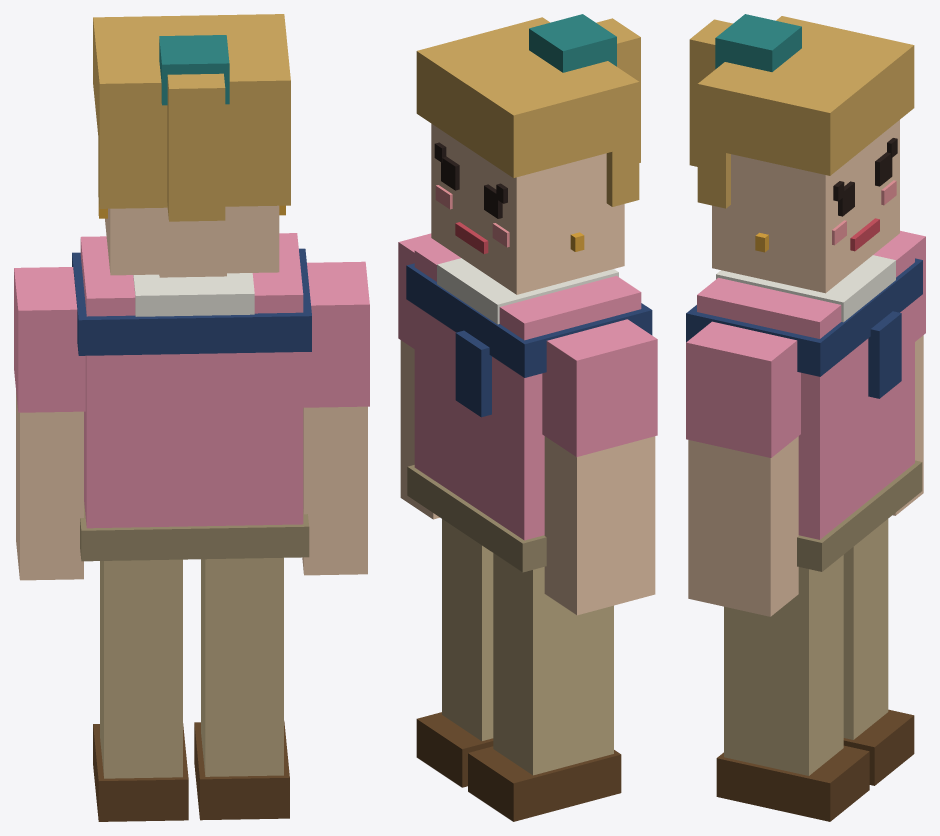
Rendered from teen_prep_1.glb.
The picture shows the model from 3 angles, left to right: view 1: azimuth 30°, elevation 25°; view 2: azimuth 150°, elevation 25°; view 3: azimuth 270°, elevation 25°; orthographic projection. The views are drawn at different scales.
Parts seen in each view (by area): view 1: Box11, Box27, Box1, Box6, Box17, Box13, Box3, Box28, Box8, Box30, Box4, Box15 (+7 smaller); view 2: Box11, Box27, Box1, Box17, Box3, Box4, Box6, Box2, Box13, Box5, Box15, Box29 (+10 smaller); view 3: Box27, Box11, Box6, Box17, Box8, Box9, Box1, Box7, Box13, Box10, Box15, Box29 (+9 smaller).
Boxes of the visible parts, <box> form: Box11: <box>80,233,303,528</box>; Box27: <box>93,14,290,150</box>; Box1: <box>100,559,182,778</box>; Box6: <box>201,557,283,776</box>; Box17: <box>105,205,279,275</box>; Box13: <box>72,248,311,355</box>; Box3: <box>14,267,85,412</box>; Box28: <box>98,105,290,208</box>; Box8: <box>303,261,369,407</box>; Box30: <box>167,73,225,221</box>; Box4: <box>16,391,83,529</box>; Box15: <box>80,502,309,561</box>; Box11: <box>414,243,641,540</box>; Box27: <box>416,17,639,177</box>; Box1: <box>493,553,613,775</box>; Box17: <box>431,123,624,294</box>; Box3: <box>542,319,657,456</box>; Box4: <box>544,436,655,571</box>; Box6: <box>442,519,493,740</box>; Box2: <box>468,746,621,821</box>; Box13: <box>406,263,652,377</box>; Box5: <box>544,547,655,615</box>; Box15: <box>407,465,546,572</box>; Box29: <box>529,14,616,72</box>; Box27: <box>697,16,914,175</box>; Box11: <box>697,240,914,539</box>; Box6: <box>724,555,843,775</box>; Box17: <box>712,120,899,293</box>; Box8: <box>686,321,800,457</box>; Box9: <box>688,436,798,573</box>; Box1: <box>843,519,888,739</box>; Box7: <box>716,745,869,821</box>; Box13: <box>686,258,922,376</box>; Box10: <box>688,550,798,616</box>; Box15: <box>797,460,922,571</box>; Box29: <box>715,14,801,71</box>.
Bounding box in the file's own units: 0.6691 × 1.59 × 0.4717.
